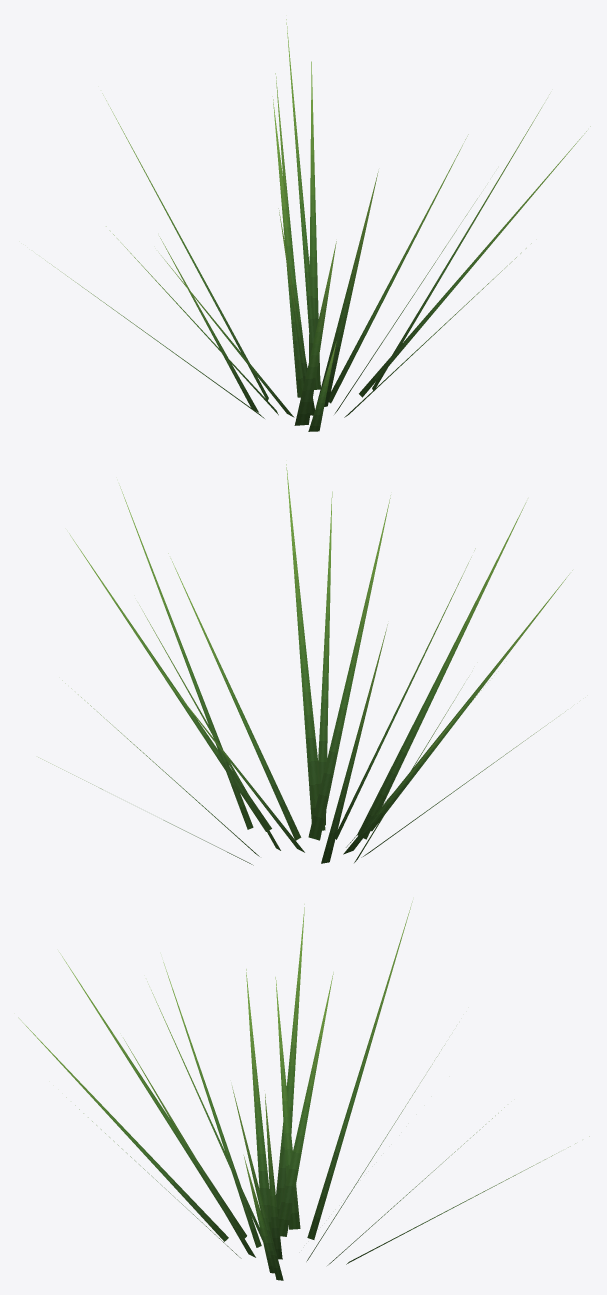
File: Short_grass.lod2.glb
3 views of the same model, one above another, from view 1: azimuth 30°, elevation 25°; view 2: azimuth 150°, elevation 25°; view 3: azimuth 270°, elevation 25° (orthographic). The views are drawn at different scales.
Parts seen in each view (by area): view 1: Grass; view 2: Grass; view 3: Grass.
Part boxes in pixels (x1=…): Grass: x1=45, y1=19, x2=590, y2=431; Grass: x1=38, y1=464, x2=572, y2=865; Grass: x1=18, y1=901, x2=589, y2=1280.
Bounding box in the file's own units: 0.4957 × 0.2638 × 0.4762.
1 material, 1 textured.
